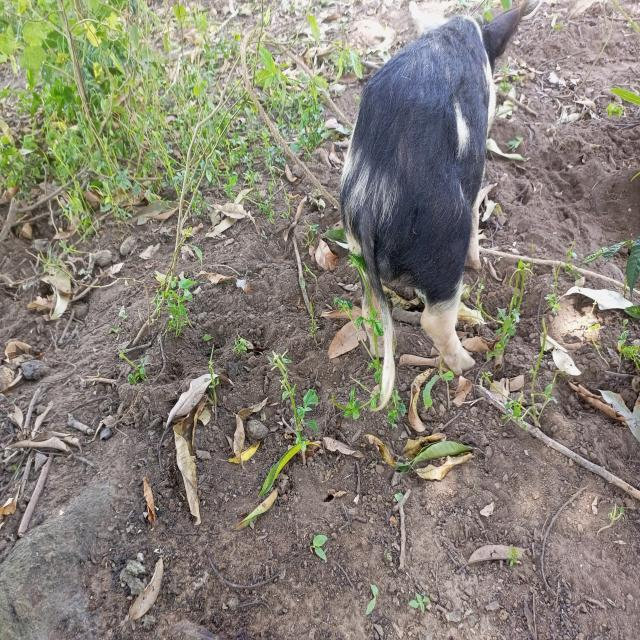pig: (311, 0, 546, 430)
